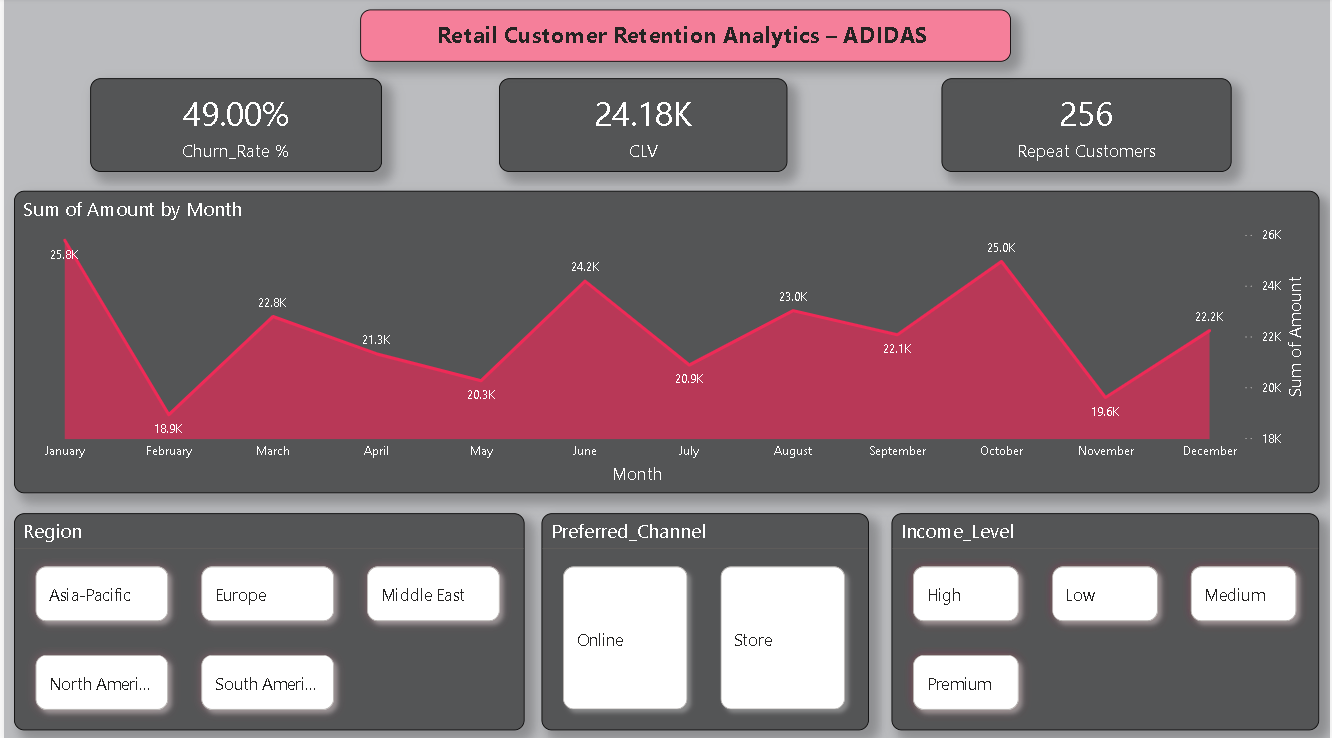

The page's visual inventory and layout, read from the dashboard file:
{"tool":"powerbi","page":{"name":"KPIs","canvas":[1280,720],"ordinal":5},"visuals":[{"type":"card","fields":{"Values":["All Measures.Churn_Rate %"]},"box":[83.7,78.2,281.3,90.6],"z":0},{"type":"card","fields":{"Values":["All Measures.CLV"]},"box":[477.5,78.2,278.6,90.6],"z":1000},{"type":"card","fields":{"Values":["All Measures.Repeat Customers"]},"box":[904.3,78.2,279.9,90.6],"z":2000},{"type":"lineChart","fields":{"Category":["Customer_Transactions.Transaction_Date.Variation.Date Hierarchy.Month","Customer_Transactions.Transaction_Date.Variation.Date Hierarchy.Day"],"Y2":["Sum(Customer_Transactions.Amount)"]},"box":[9.6,186.6,1259.7,292.3],"z":3000},{"type":"advancedSlicerVisual","fields":{"Values":["Store_Locations.Region"]},"box":[9.6,498.1,492.6,209.9],"z":4000},{"type":"advancedSlicerVisual","fields":{"Values":["Customer_Demographics.Preferred_Channel"]},"box":[518.7,498.1,315.6,209.9],"z":5000},{"type":"advancedSlicerVisual","fields":{"Values":["Customer_Demographics.Income_Level"]},"box":[856.3,498.1,413,209.9],"z":6000},{"type":"textbox","box":[343.7,12.6,628.2,50.4],"z":7000}]}

Visuals, with their boxes in screenshot pixels (x1, y1, x2, y2), scaled from the page's 1280x720 canvas onto the 1332x738 screenshot:
card - All Measures.Churn_Rate %: [x1=87, y1=80, x2=380, y2=173]
card - All Measures.CLV: [x1=497, y1=80, x2=787, y2=173]
card - All Measures.Repeat Customers: [x1=941, y1=80, x2=1232, y2=173]
lineChart - Customer_Transactions.Transaction_Date.Variation.Date Hierarchy.Month x Customer_Transactions.Transaction_Date.Variation.Date Hierarchy.Day: [x1=10, y1=191, x2=1321, y2=491]
advancedSlicerVisual - Store_Locations.Region: [x1=10, y1=511, x2=523, y2=726]
advancedSlicerVisual - Customer_Demographics.Preferred_Channel: [x1=540, y1=511, x2=868, y2=726]
advancedSlicerVisual - Customer_Demographics.Income_Level: [x1=891, y1=511, x2=1321, y2=726]
textbox: [x1=358, y1=13, x2=1011, y2=65]
